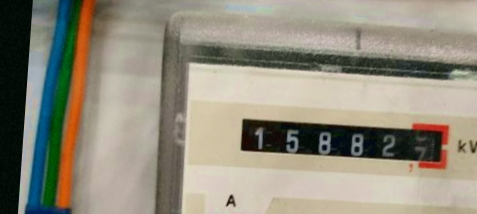1: (252, 121, 267, 151)
2: (379, 131, 397, 158)
5: (283, 125, 302, 156)
7: (412, 142, 426, 160)
8: (315, 128, 333, 157), (348, 129, 366, 158)
screen: (227, 101, 457, 177)
